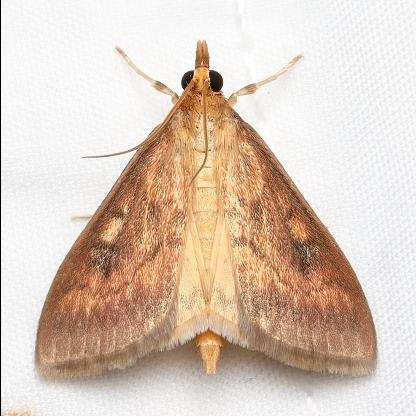Asian Corn Borer Moth: (30, 36, 382, 384)
